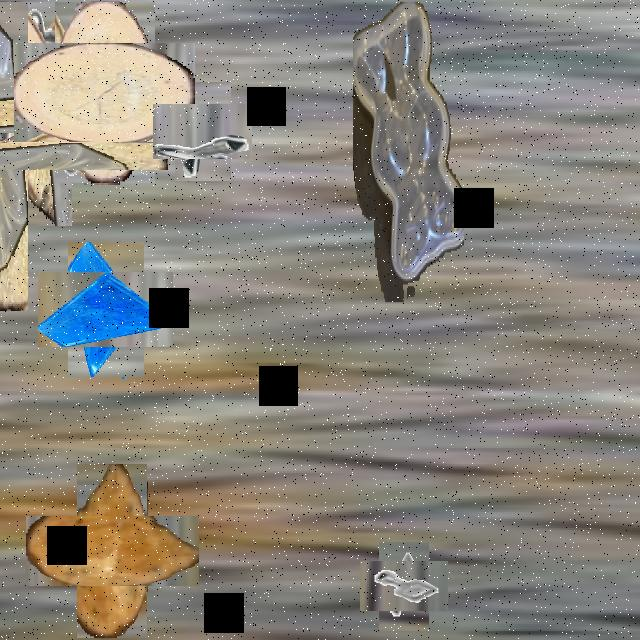glass: (53, 257, 159, 362)
metal: (22, 2, 84, 112), (164, 93, 242, 170), (369, 552, 439, 621)
plastic: (353, 2, 463, 300), (0, 72, 98, 240)
wood: (35, 22, 175, 163), (0, 40, 110, 188), (51, 490, 173, 612)
